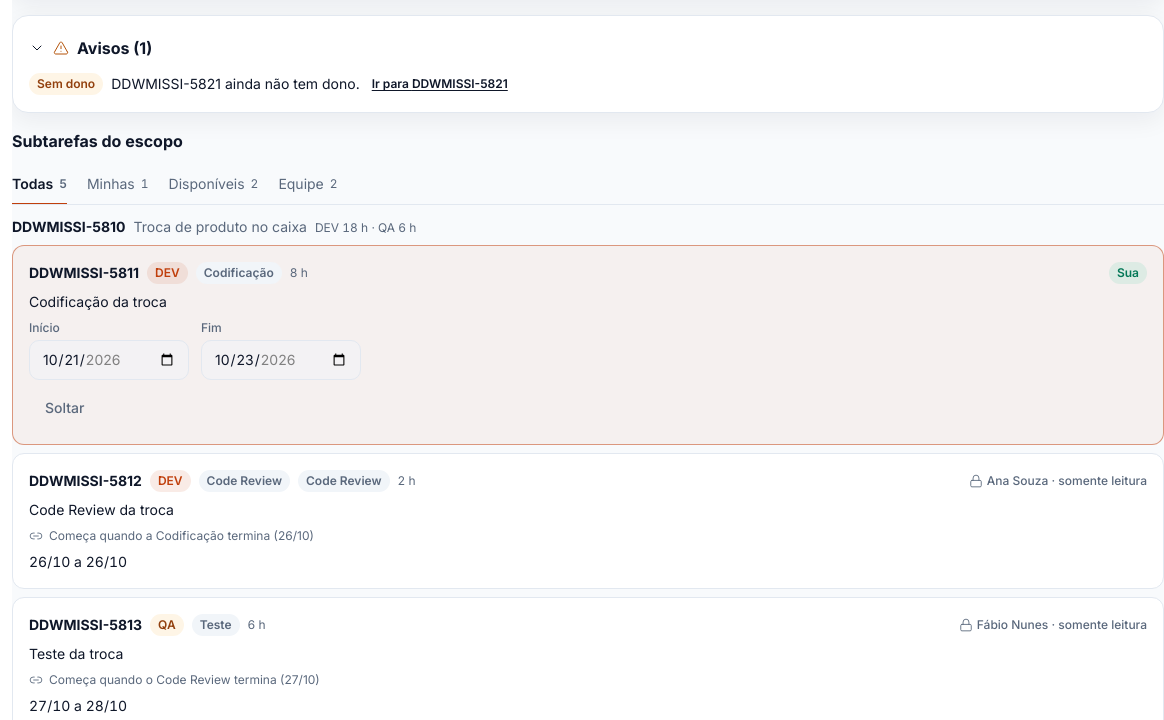
Scenario: Distribuição: datas e cascata › 422: mostra a mensagem e sugere o minStartDate; aceitar a sugestão preenche o início
The image size is (1164, 720).
(page scrolled)
Type "2026-10-27" into the date field labelled "Fim" at point(281, 360), box [201,340,361,380]
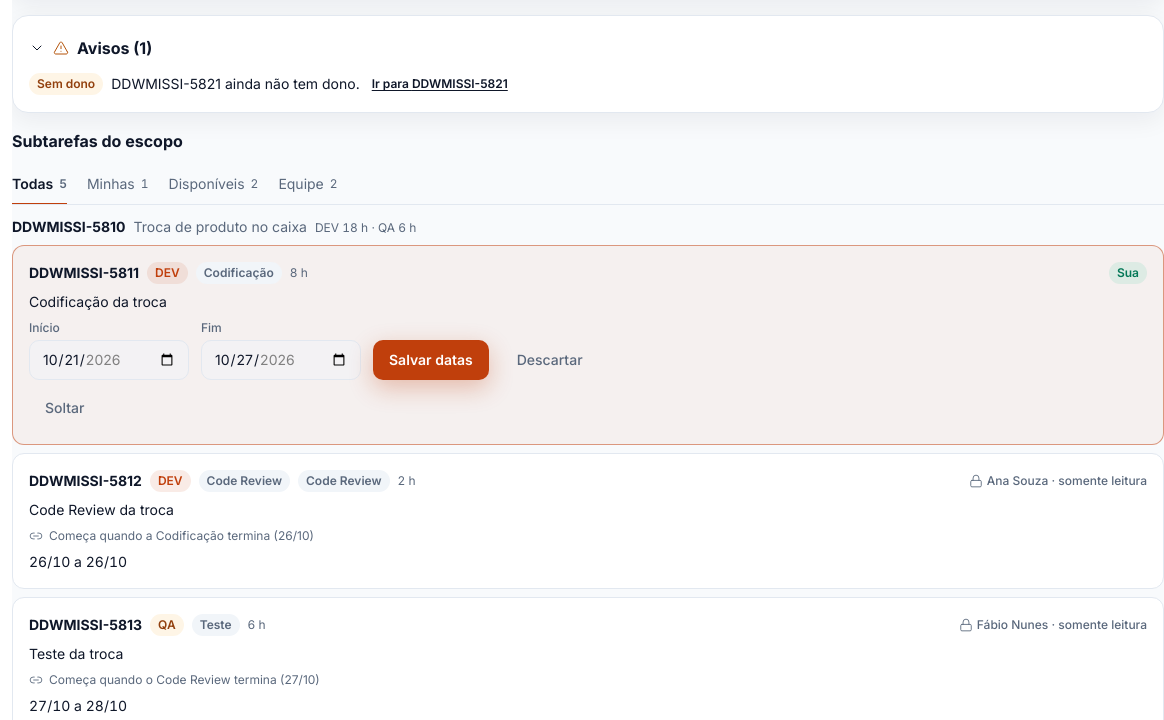
Click the button "Salvar datas" at point(431, 360), box [373,340,489,380]
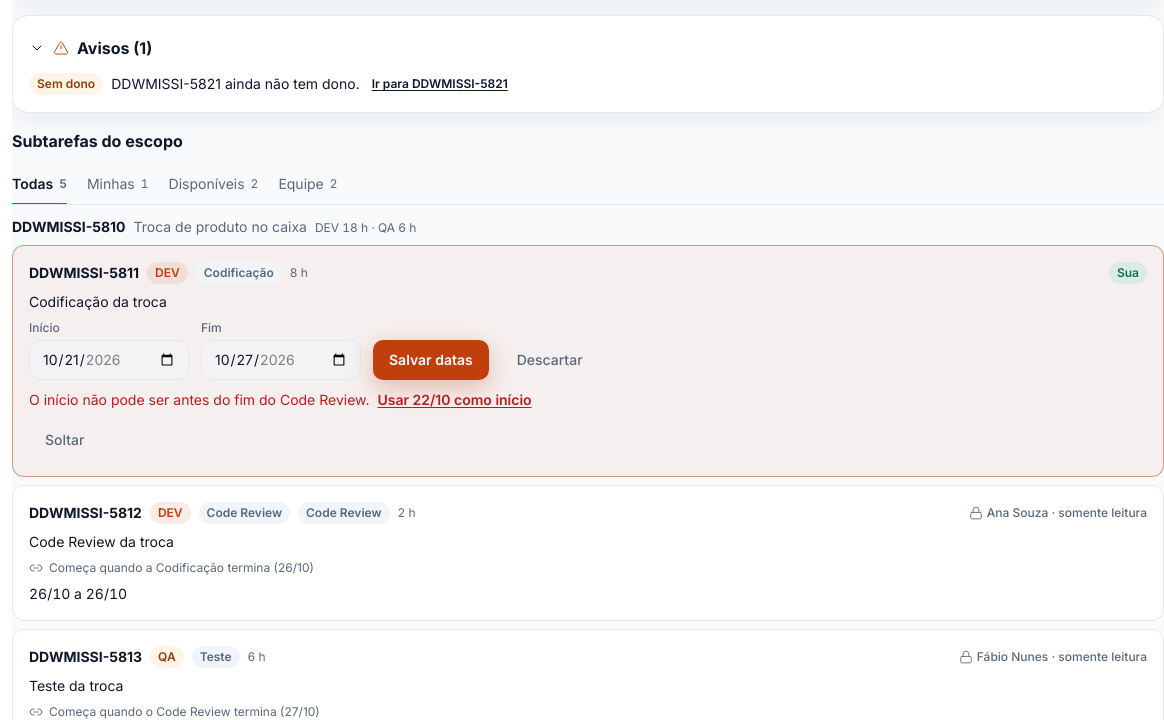
Check: the message with test id "erro-DDWMISSI-5811" shows "Code Review", box [29,391,370,408]
Click the button "Usar 22/10 como início" at point(455, 400), box [374,388,536,412]
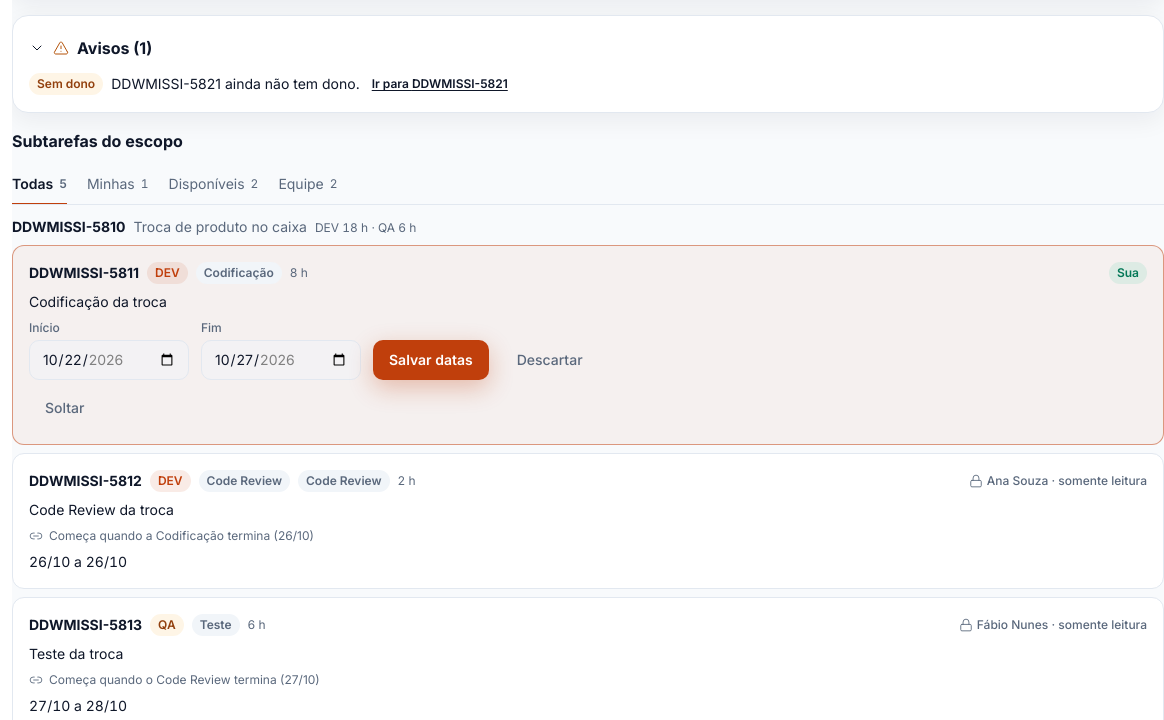
Check: the date field labelled "Início" holds "2026-10-22", box [29,340,189,380]
